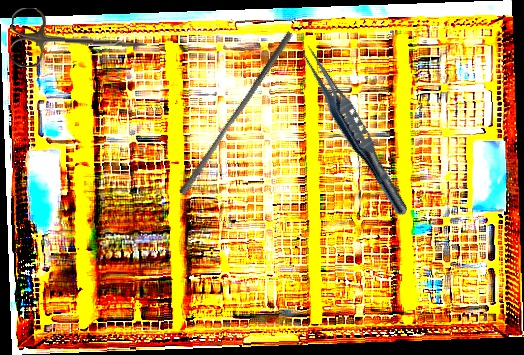Iris Scissors: (10, 7, 148, 72)
Pusher: (178, 27, 294, 199)
Tissue Forceps: (290, 38, 418, 221)
